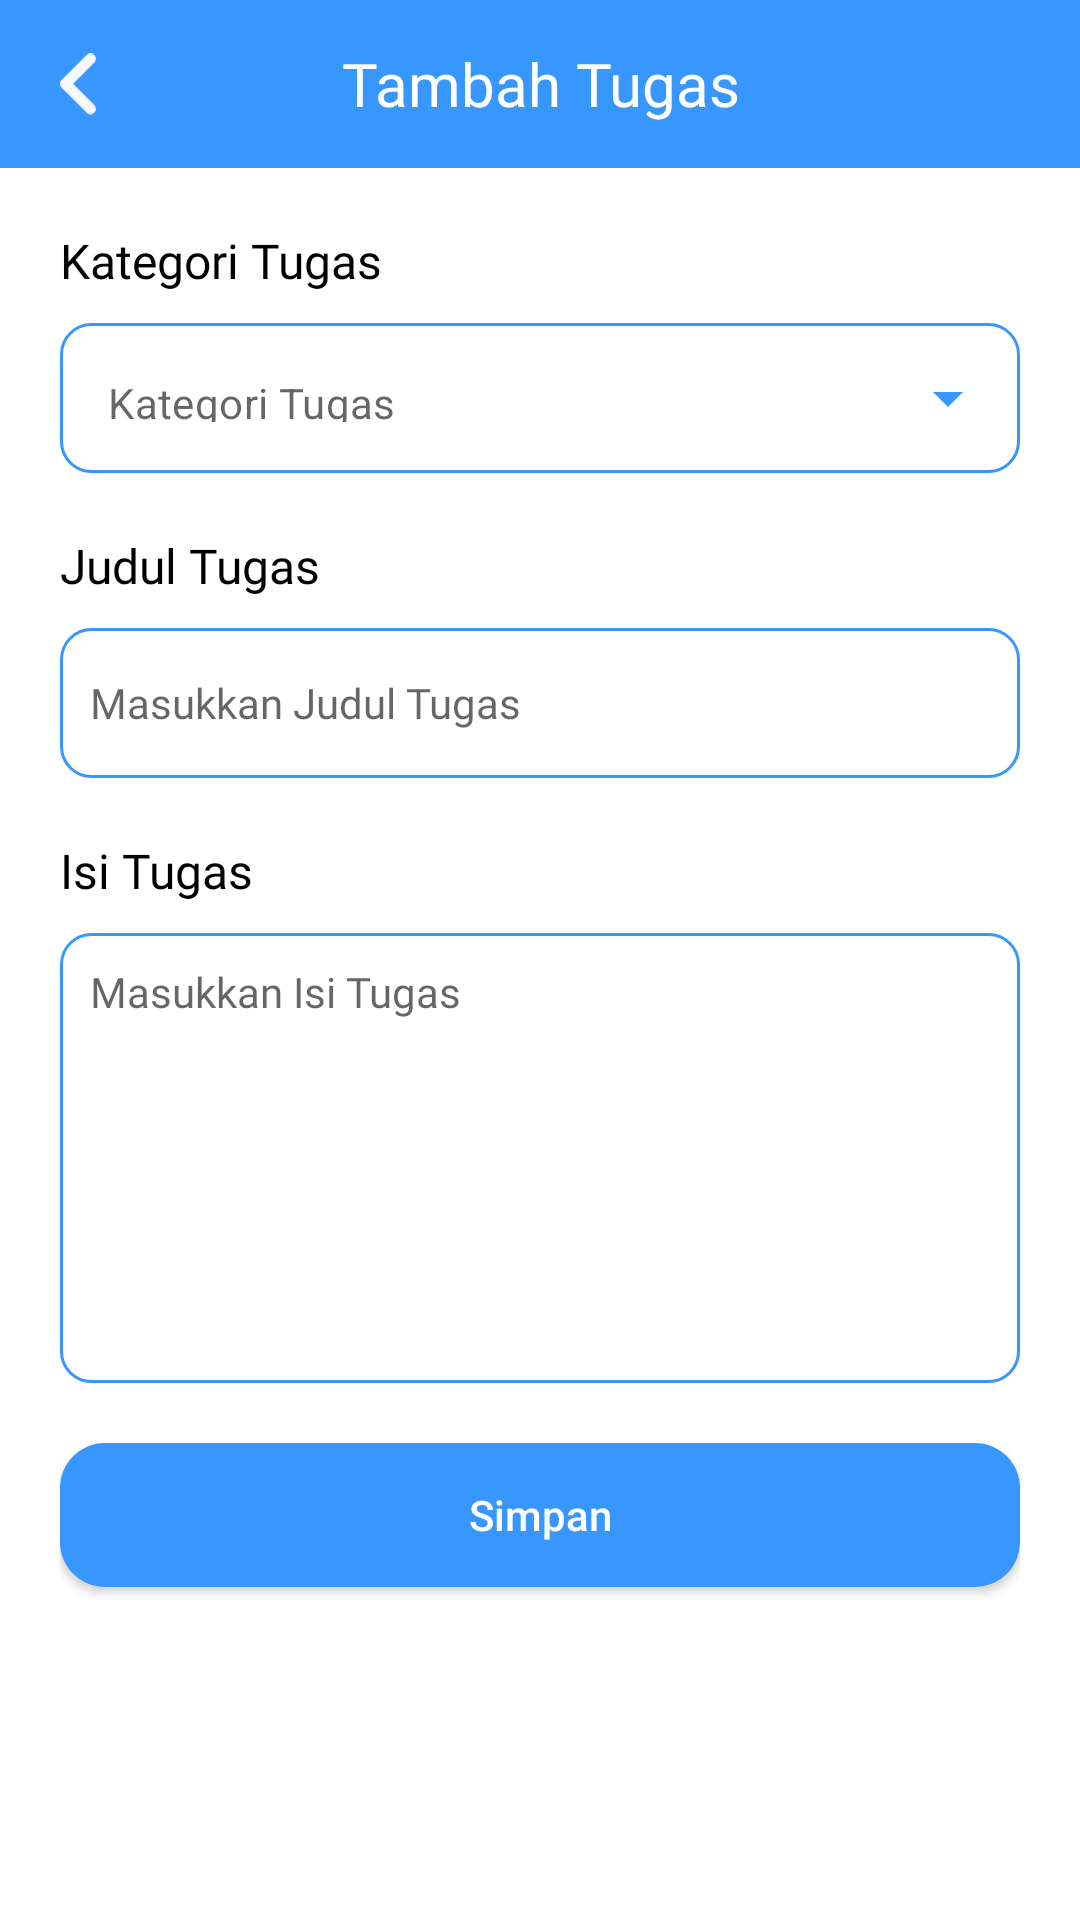

Where to tap for icons on this 1080 × 1920 app screen, as (x=x, y=y):
back: (x=78, y=84)
